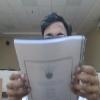notebook: (13, 34, 86, 99)
